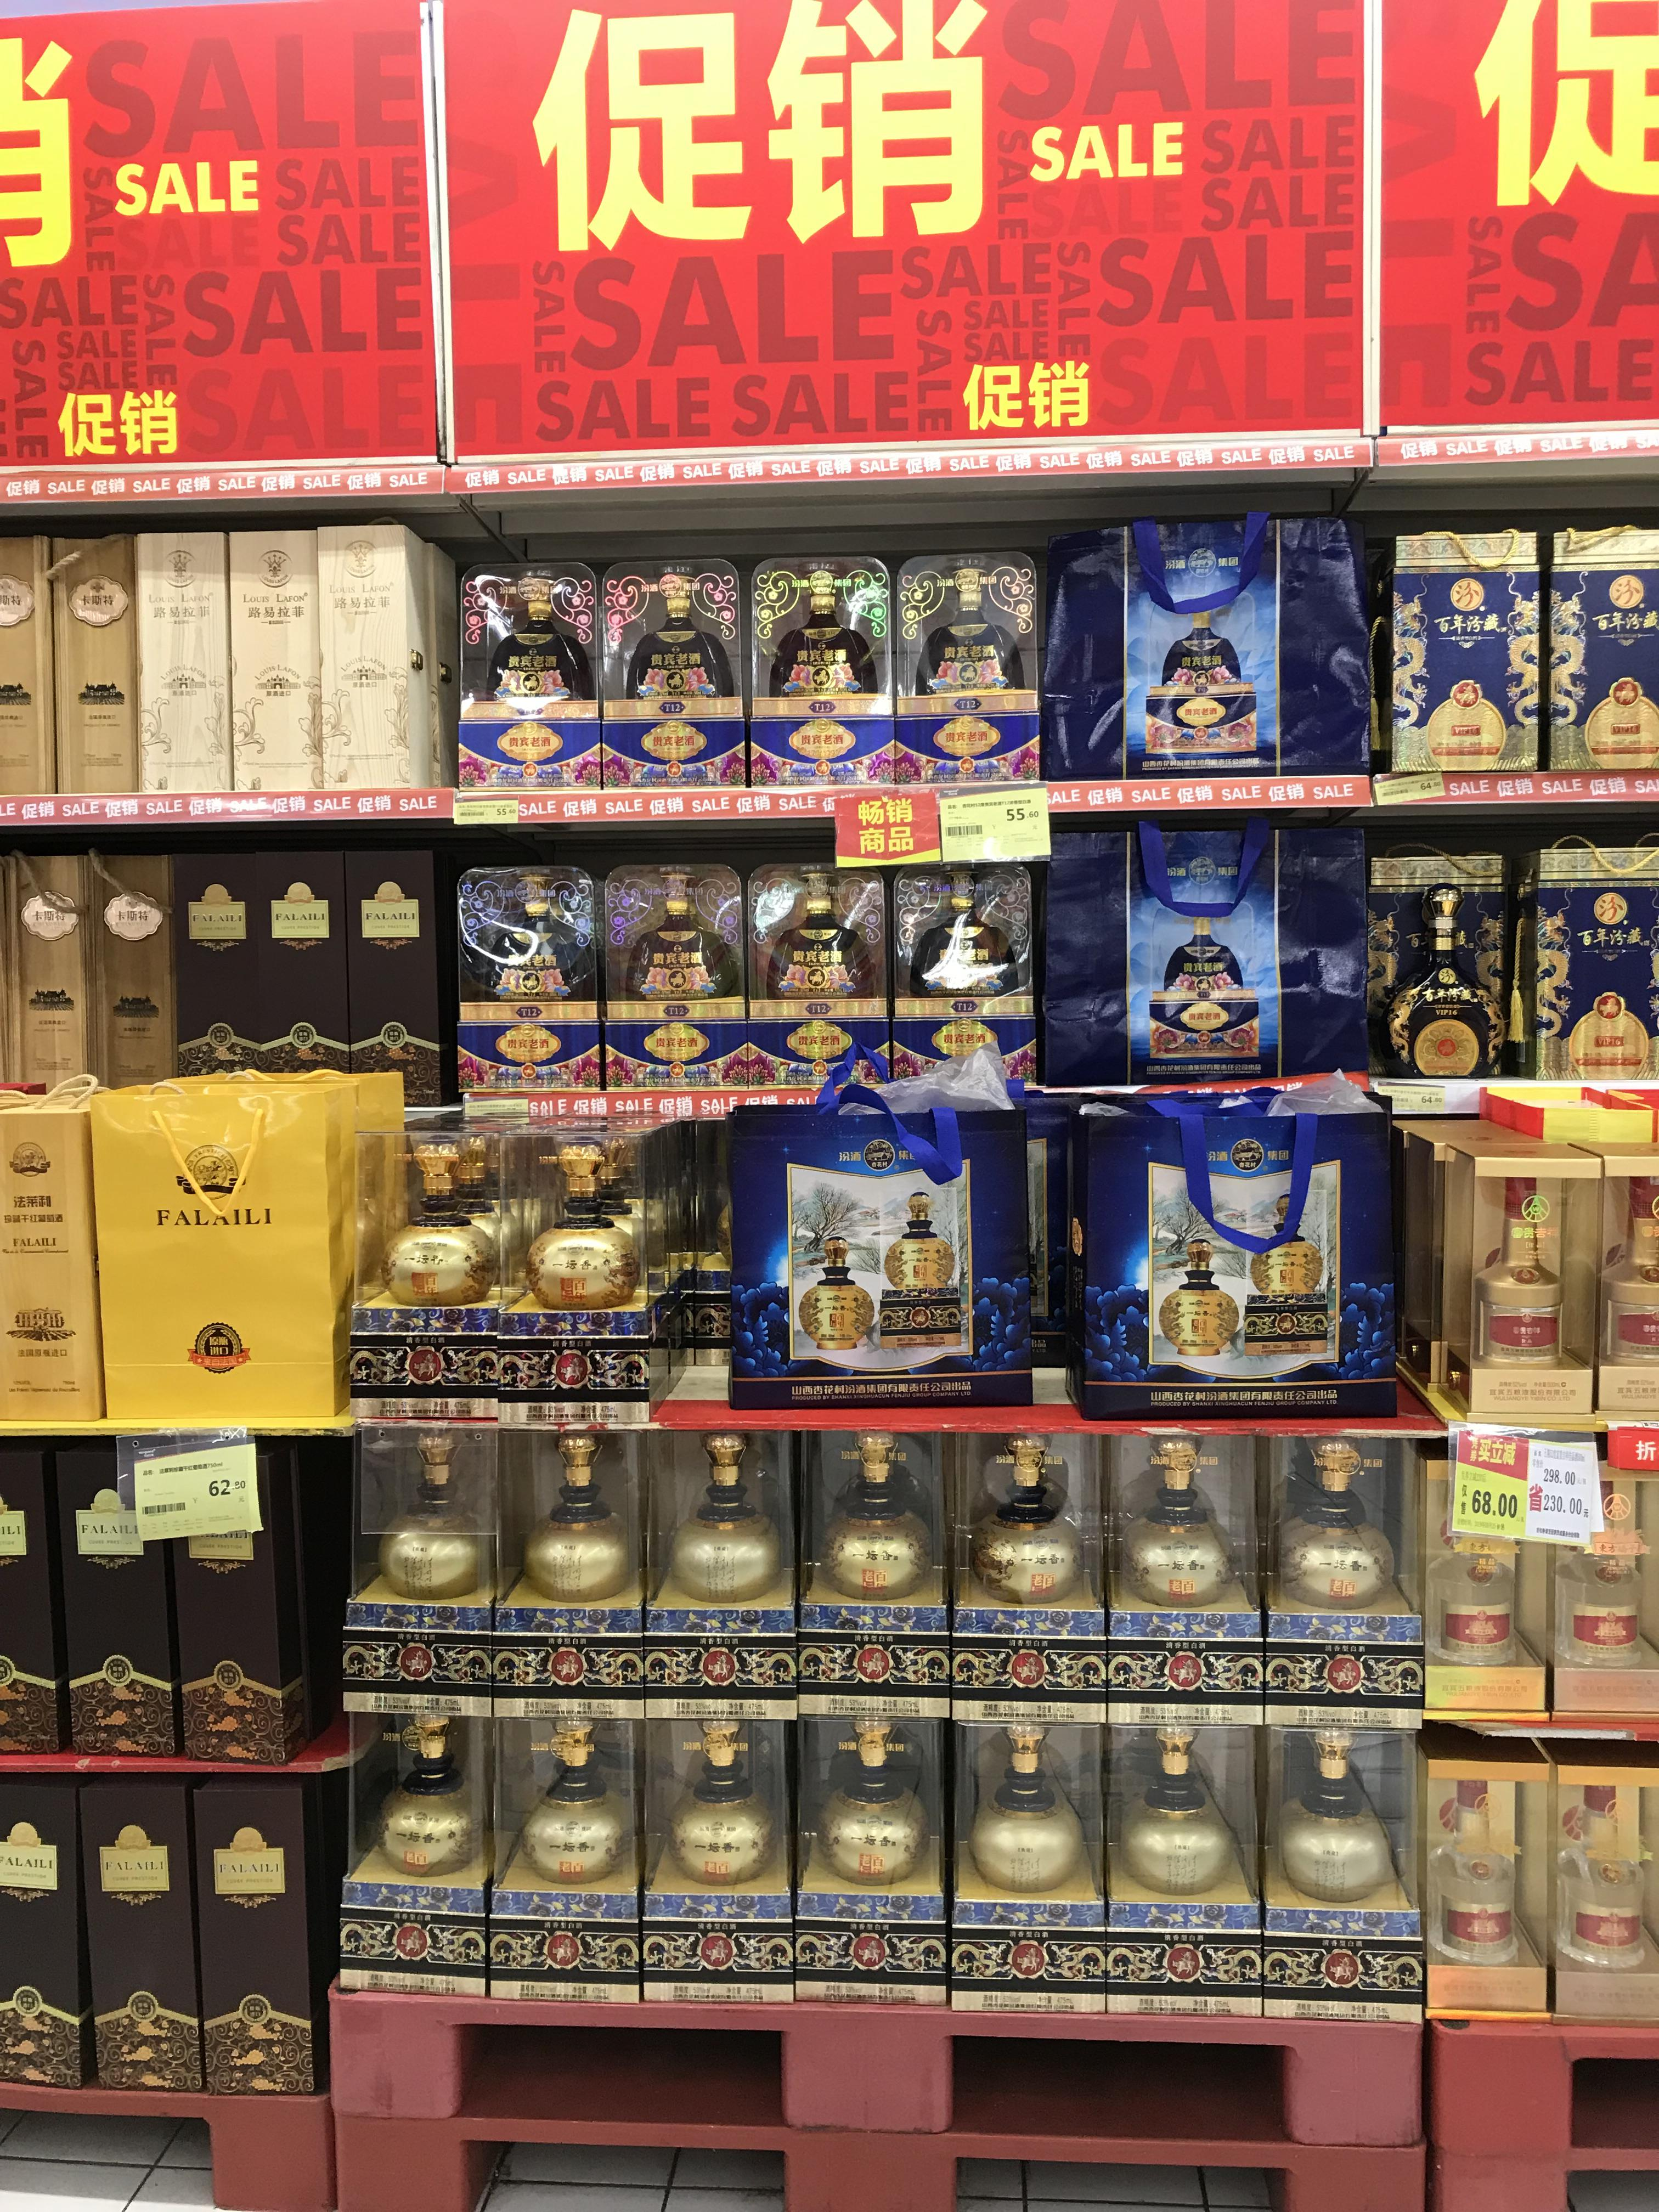bag: (1065, 1103, 1384, 1420), (795, 1691, 946, 1996), (1272, 1743, 1427, 2024), (631, 1698, 791, 1966), (1115, 1731, 1263, 2010), (1127, 505, 1267, 789), (1272, 1432, 1413, 1707), (1363, 853, 1506, 1096), (1246, 512, 1371, 784), (901, 549, 1037, 782), (1044, 524, 1140, 792)
bottle: (945, 1712, 1105, 2008), (1100, 1435, 1269, 1700), (484, 1705, 626, 2000), (343, 1712, 476, 2000), (890, 841, 1037, 1085), (955, 1440, 1094, 1689), (746, 554, 887, 799), (742, 866, 892, 1085), (458, 564, 599, 789), (603, 561, 737, 791), (491, 1416, 638, 1620), (647, 1435, 791, 1635), (673, 1251, 732, 1395)
box: (92, 1087, 350, 1421), (1035, 831, 1361, 1087), (1399, 1122, 1591, 1435), (497, 1115, 681, 1420), (153, 1433, 300, 1742), (200, 1775, 326, 2106), (51, 1442, 183, 1745), (174, 848, 349, 1078), (359, 1122, 488, 1418), (84, 1787, 206, 2090), (606, 859, 746, 1108), (1541, 1433, 1659, 1726), (457, 864, 601, 1101), (2, 1106, 108, 1425), (1425, 1761, 1547, 2034), (319, 529, 450, 784), (352, 1420, 497, 1639), (1553, 1761, 1659, 2034), (0, 1782, 89, 2101), (129, 531, 228, 796), (51, 536, 148, 799), (347, 840, 441, 1109), (228, 528, 326, 787), (92, 852, 174, 1089), (3, 1442, 63, 1761), (1589, 1144, 1659, 1413), (0, 547, 58, 803)
others: (52, 1061, 390, 1423), (721, 1096, 1037, 1407), (1385, 533, 1542, 779), (1528, 845, 1657, 1113), (1422, 1435, 1541, 1714), (1544, 524, 1657, 779), (0, 834, 94, 1090), (1417, 2156, 1582, 2210)
